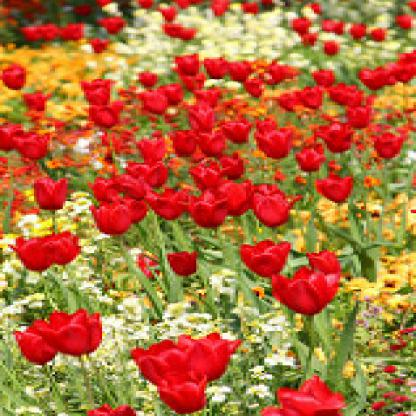TULIP: (6, 3, 407, 410)
